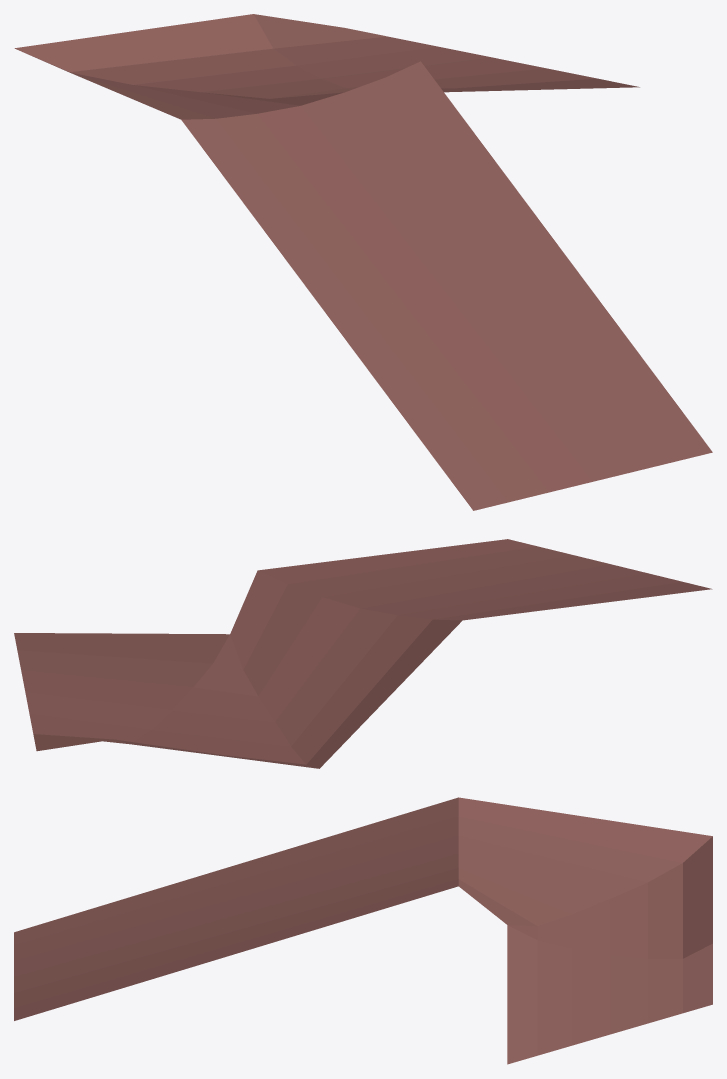
The model's file is MudRamp.fbx.
The picture shows the model from 3 angles, top to bottom: view 1: azimuth 30°, elevation 25°; view 2: azimuth 150°, elevation 25°; view 3: azimuth 270°, elevation 25°; orthographic projection. The views are drawn at different scales.
Parts seen in each view (by area): view 1: MudRamp2; view 2: MudRamp2; view 3: MudRamp2.
Boxes of the visible parts, x1,y1,x2,y2 form: MudRamp2: (14,14,712,510); MudRamp2: (14,539,712,768); MudRamp2: (14,797,712,1064).
Size of the model in its own units: 3986 by 1373 by 6448.
